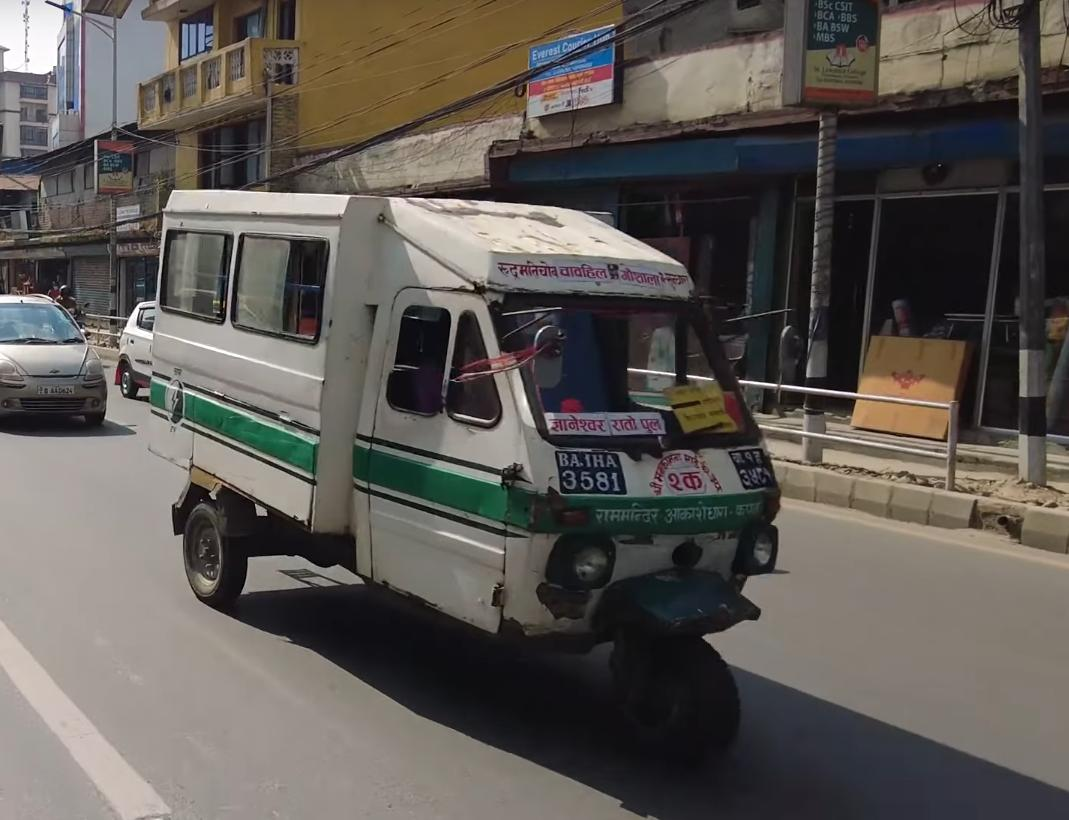car: (0, 283, 111, 436)
tempo: (127, 153, 795, 776)
